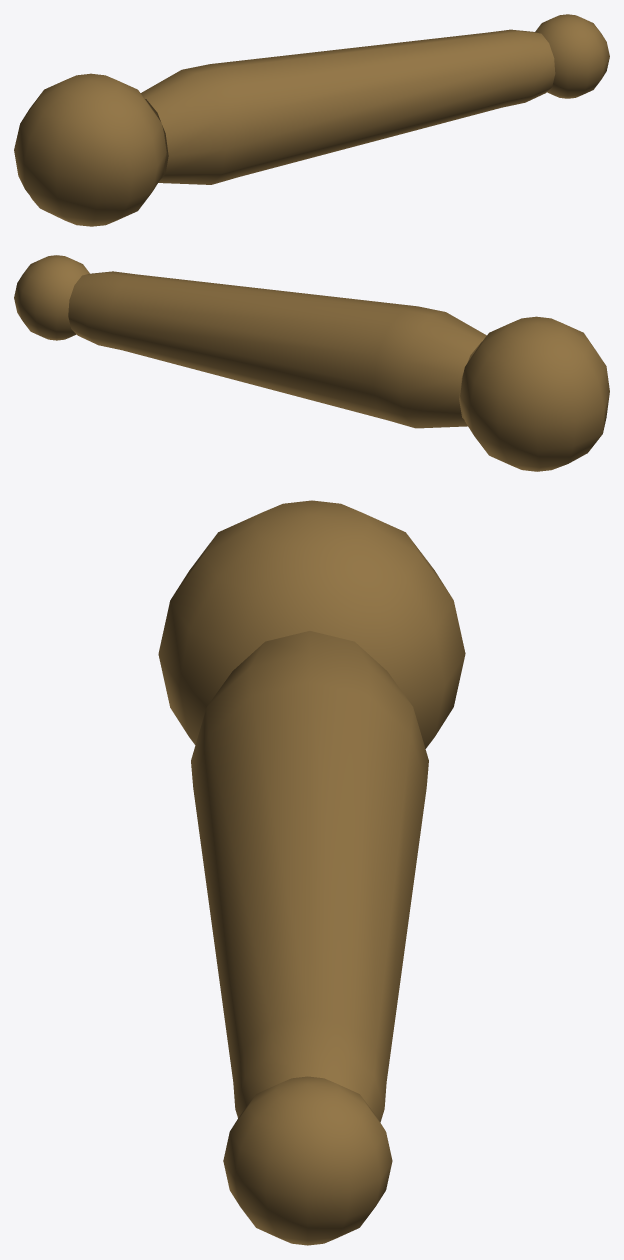
The model's file is piezas_brazo1.fbx.
The picture shows the model from 3 angles, top to bottom: view 1: azimuth 30°, elevation 25°; view 2: azimuth 150°, elevation 25°; view 3: azimuth 270°, elevation 25°; orthographic projection. The views are drawn at different scales.
Parts seen in each view (by area): view 1: dummy_obj.010; view 2: dummy_obj.010; view 3: dummy_obj.010.
Boxes of the visible parts, x1,y1,x2,y2 form: dummy_obj.010: [14, 14, 609, 226]; dummy_obj.010: [14, 255, 609, 471]; dummy_obj.010: [158, 500, 465, 1245].
Size of the model in its own units: 34.83 by 7.99 by 8.
